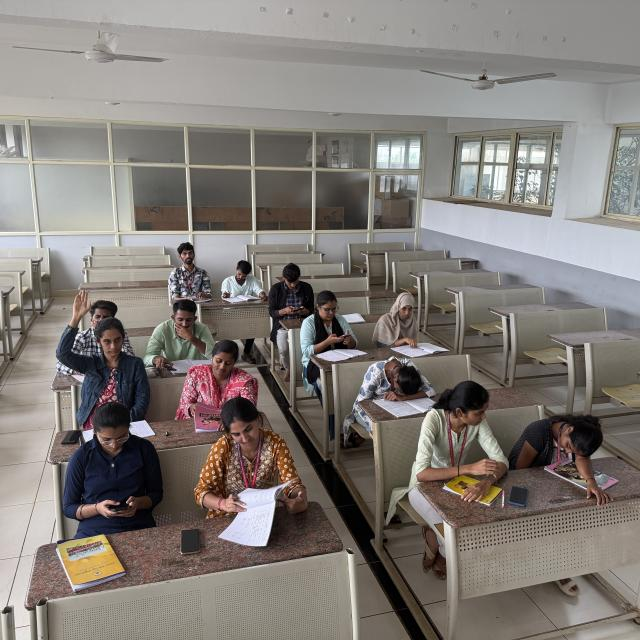Hand Rising: (55, 289, 149, 406)
Reading: (183, 338, 256, 422)
Sleeping: (509, 392, 600, 461), (320, 347, 437, 398)
Using Phone: (78, 410, 164, 540), (148, 295, 226, 375), (304, 289, 357, 351), (268, 262, 314, 322)
Writing: (374, 293, 431, 355), (220, 250, 270, 311)
